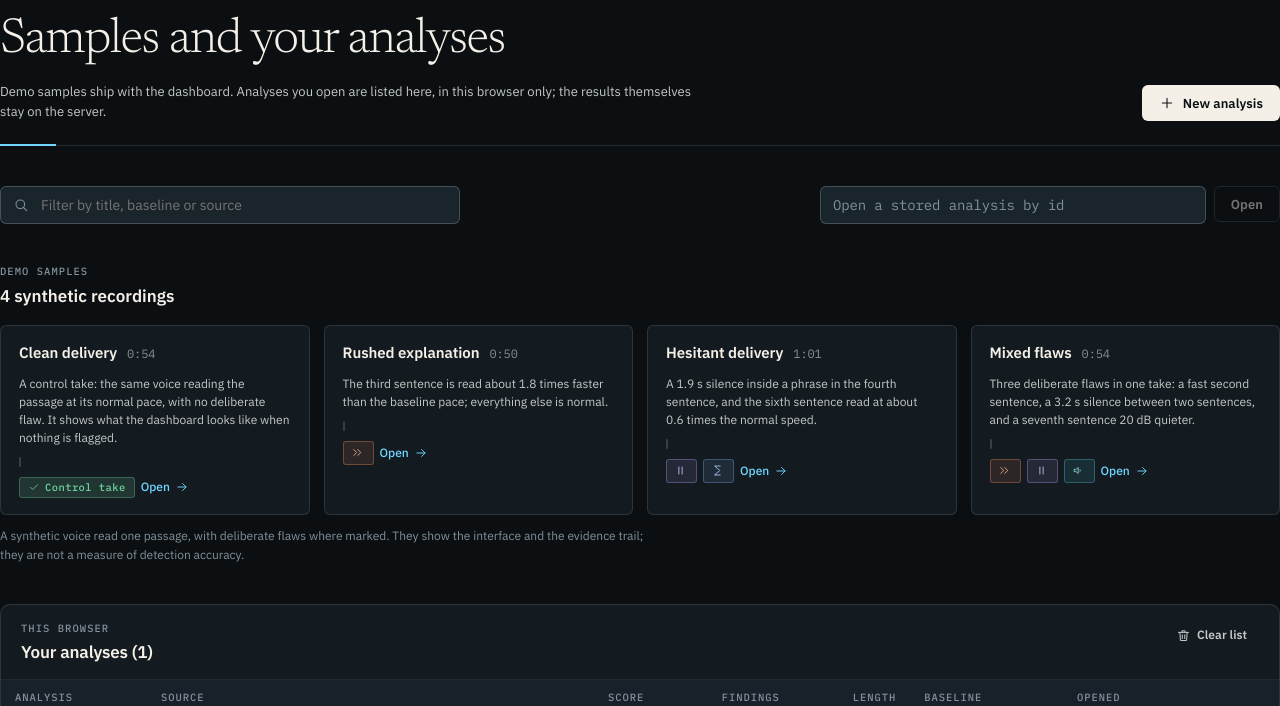
Test: LibraryPage › confirms before clearing the list
Step 1. Click the button "Clear list" → [1212, 635], box [1164, 621, 1259, 649]
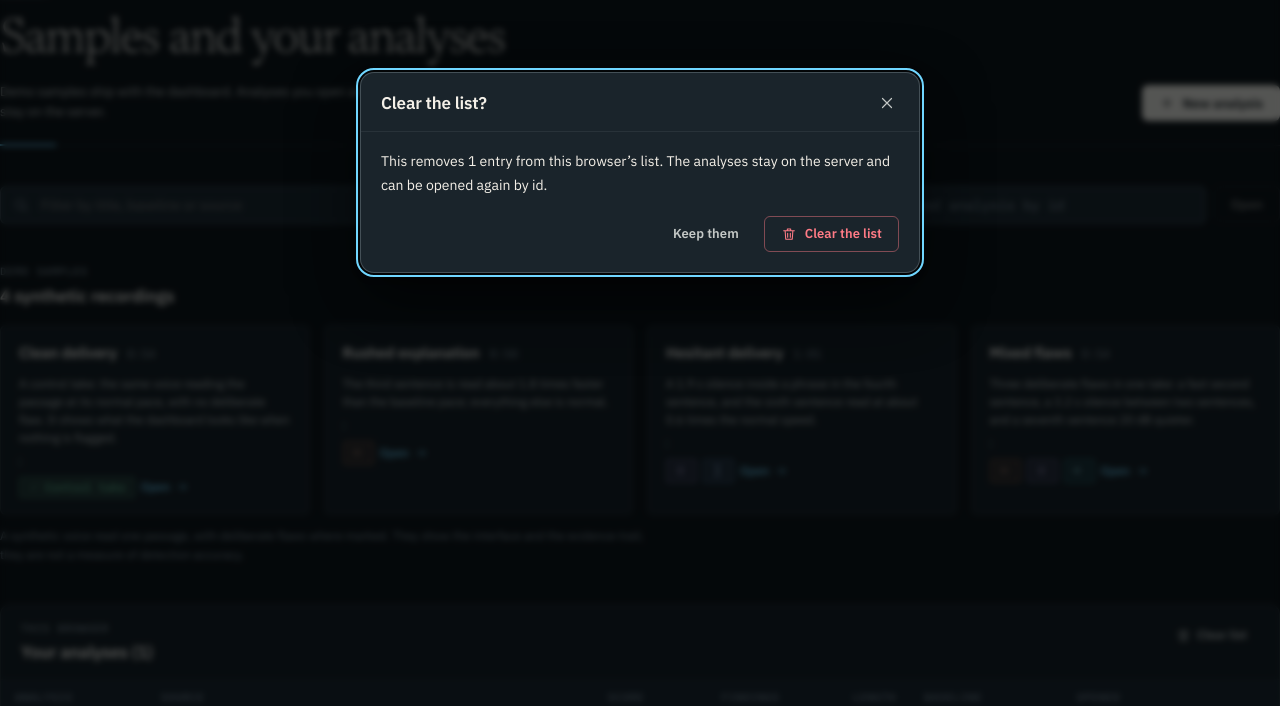
Step 2. Click the button "Keep them" → [706, 234], box [656, 216, 756, 252]
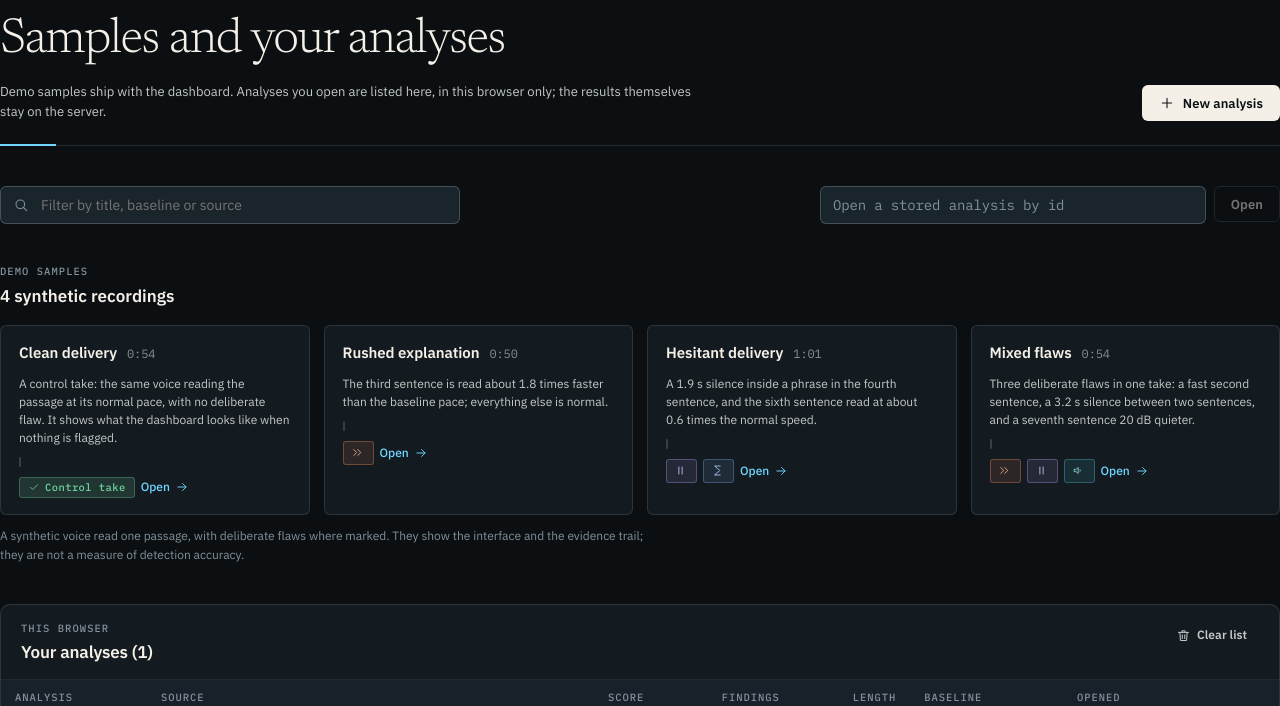
Step 3. Click the button "Clear list" → [1212, 635], box [1164, 621, 1259, 649]
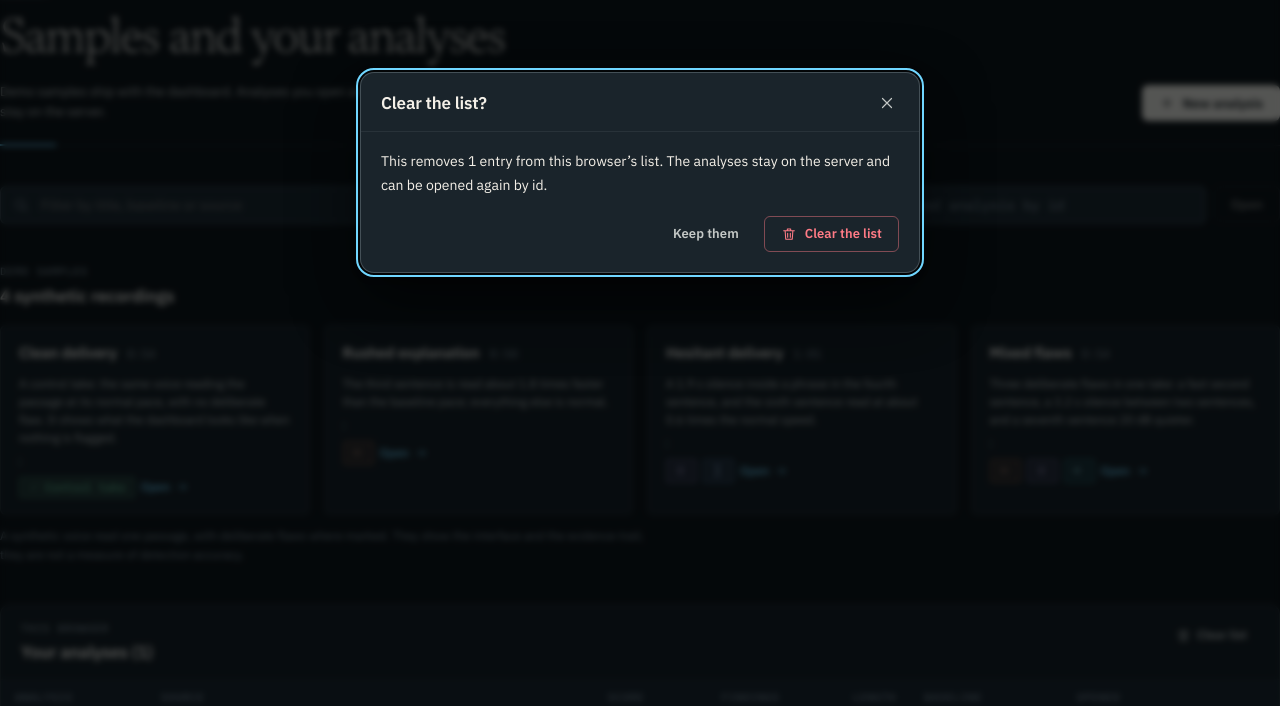
Step 4. Click the button "Clear the list" → [831, 234], box [764, 216, 899, 252]
(page scrolled)
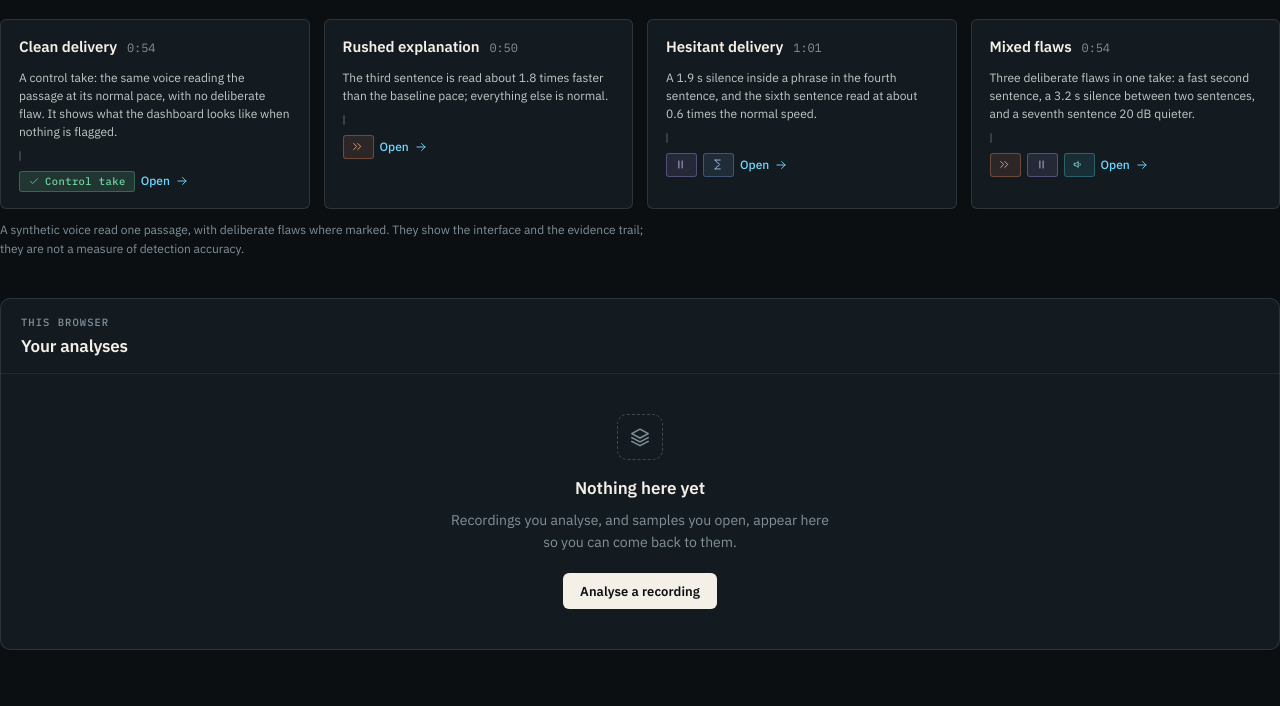
Expected: the heading "Nothing here yet" is shown, [575, 476, 705, 502]
